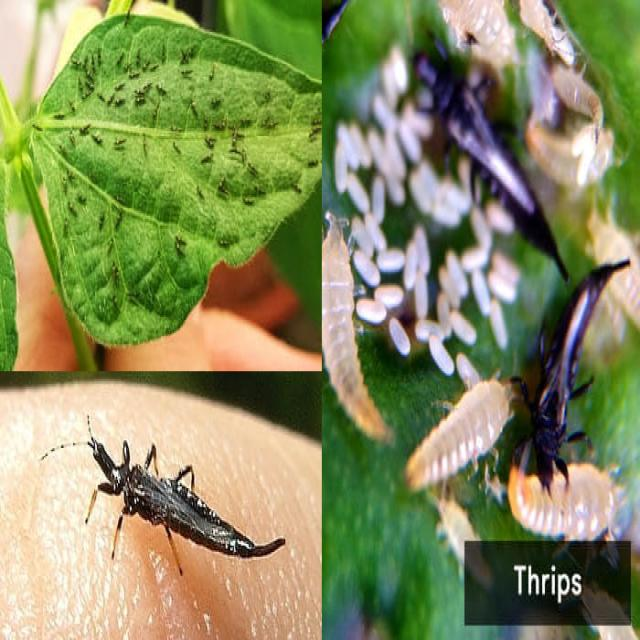Thrip-Adult-: (112, 131, 132, 150), (188, 95, 200, 124)
Thrip-Group-: (42, 17, 310, 316)
